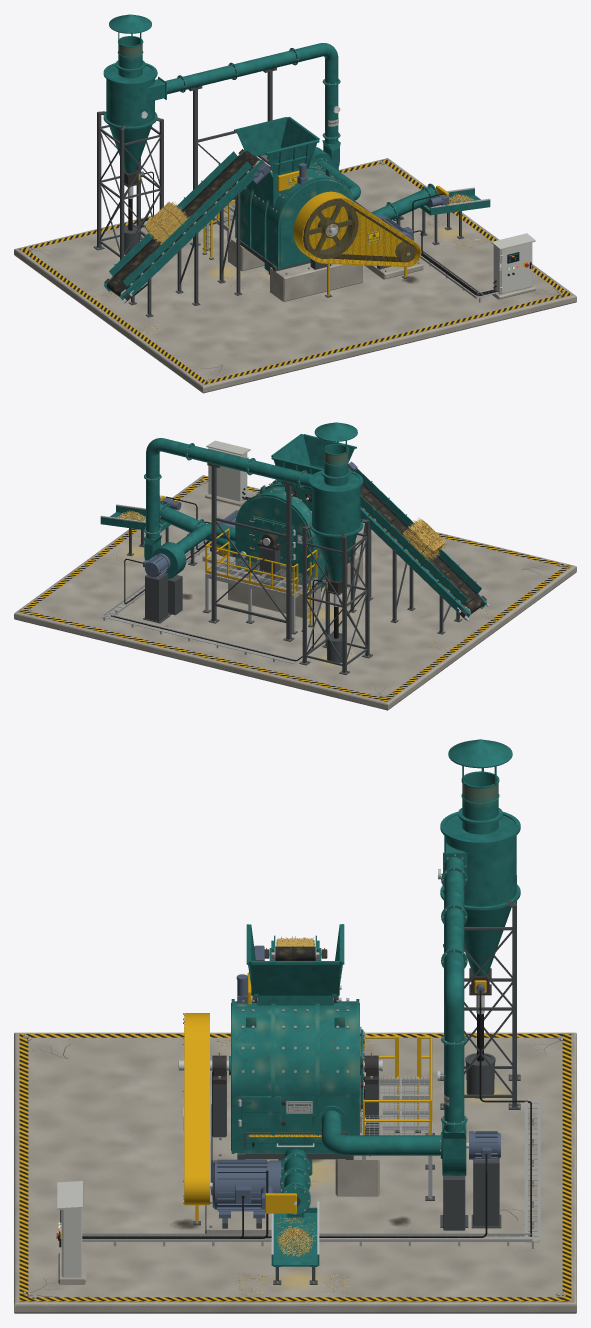
The model's file is Shredder_v2.glb.
The picture shows the model from 3 angles, top to bottom: view 1: azimuth 30°, elevation 25°; view 2: azimuth 150°, elevation 25°; view 3: azimuth 270°, elevation 25°; orthographic projection. The views are drawn at different scales.
Parts seen in each view (by area): view 1: SH_Foundation_Mesh, SH_Infeed_Mesh, SH_Cyclone_Mesh, SH_Drive_Mesh, SH_Fan_Mesh, SH_Housing_Mesh, SH_Controls_Mesh, SH_Outfeed_Mesh, SH_Flywheel_Mesh, SH_Straw_Mesh, SH_Platform_Mesh; view 2: SH_Foundation_Mesh, SH_Cyclone_Mesh, SH_Fan_Mesh, SH_Infeed_Mesh, SH_Housing_Mesh, SH_Controls_Mesh, SH_Platform_Mesh, SH_Outfeed_Mesh, SH_Straw_Mesh, SH_Drive_Mesh; view 3: SH_Foundation_Mesh, SH_Housing_Mesh, SH_Cyclone_Mesh, SH_Fan_Mesh, SH_Drive_Mesh, SH_Controls_Mesh, SH_Infeed_Mesh, SH_Outfeed_Mesh, SH_Platform_Mesh, SH_Straw_Mesh.
Part boxes in pixels (box(x1,y1,x2,y2)): SH_Foundation_Mesh: box(14, 158, 576, 393); SH_Infeed_Mesh: box(102, 116, 319, 317); SH_Cyclone_Mesh: box(93, 14, 167, 259); SH_Drive_Mesh: box(293, 191, 421, 297); SH_Fan_Mesh: box(165, 43, 360, 245); SH_Housing_Mesh: box(235, 160, 354, 271); SH_Controls_Mesh: box(135, 168, 535, 302); SH_Outfeed_Mesh: box(264, 183, 490, 274); SH_Flywheel_Mesh: box(303, 199, 358, 258); SH_Straw_Mesh: box(93, 193, 487, 333); SH_Platform_Mesh: box(202, 200, 235, 259); SH_Foundation_Mesh: box(14, 475, 576, 710); SH_Cyclone_Mesh: box(299, 422, 372, 674); SH_Fan_Mesh: box(143, 438, 312, 641); SH_Infeed_Mesh: box(271, 434, 488, 634); SH_Housing_Mesh: box(235, 479, 355, 587); SH_Controls_Mesh: box(102, 440, 322, 663); SH_Platform_Mesh: box(202, 528, 317, 634); SH_Outfeed_Mesh: box(100, 495, 325, 591); SH_Straw_Mesh: box(104, 510, 496, 657); SH_Drive_Mesh: box(209, 510, 282, 586); SH_Foundation_Mesh: box(14, 1032, 576, 1313); SH_Housing_Mesh: box(229, 998, 365, 1159); SH_Cyclone_Mesh: box(440, 739, 520, 1109); SH_Fan_Mesh: box(321, 857, 501, 1230); SH_Drive_Mesh: box(183, 1013, 382, 1228); SH_Controls_Mesh: box(56, 990, 540, 1277); SH_Infeed_Mesh: box(236, 924, 344, 1005); SH_Outfeed_Mesh: box(261, 1149, 319, 1284); SH_Platform_Mesh: box(362, 1036, 434, 1200); SH_Straw_Mesh: box(216, 936, 443, 1295).
Bounding box in the file's own units: 16 × 10 × 14.
Materials: 46 (22 with a texture image).
